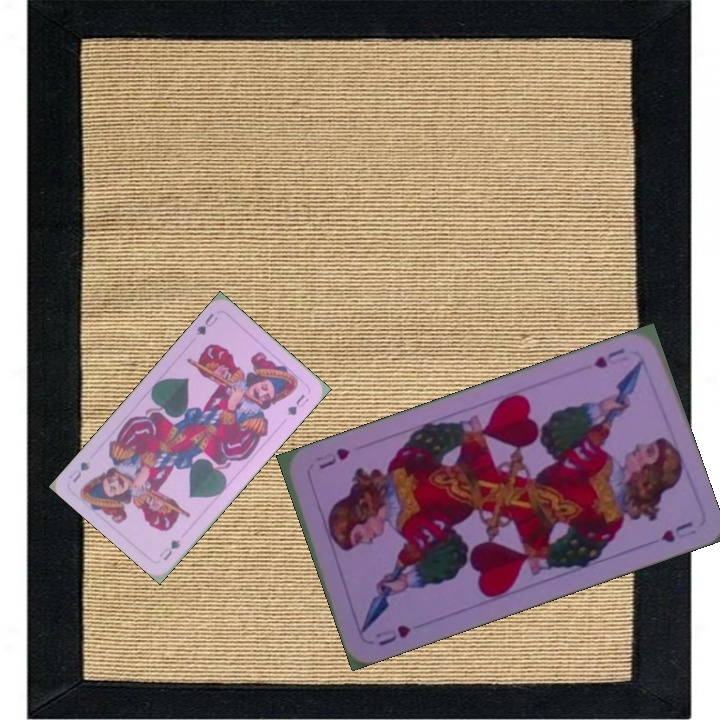GU: (192, 309, 221, 338), (155, 535, 183, 563)
HU: (371, 621, 413, 649), (590, 344, 627, 371)
